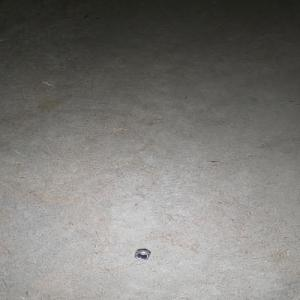Nut: (133, 247, 151, 259)
